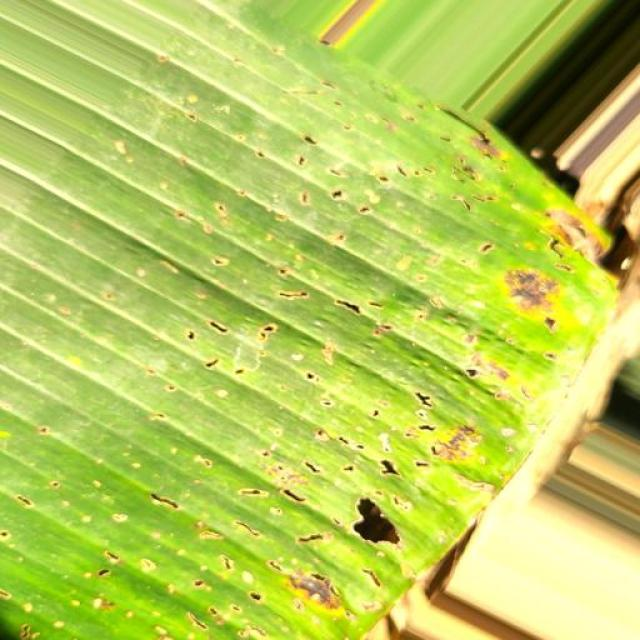Black_rot: (14, 29, 618, 640)
